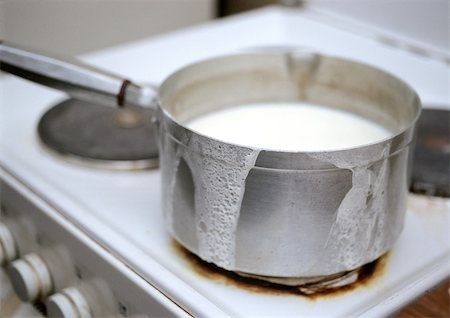Boiled: (160, 44, 422, 213)
